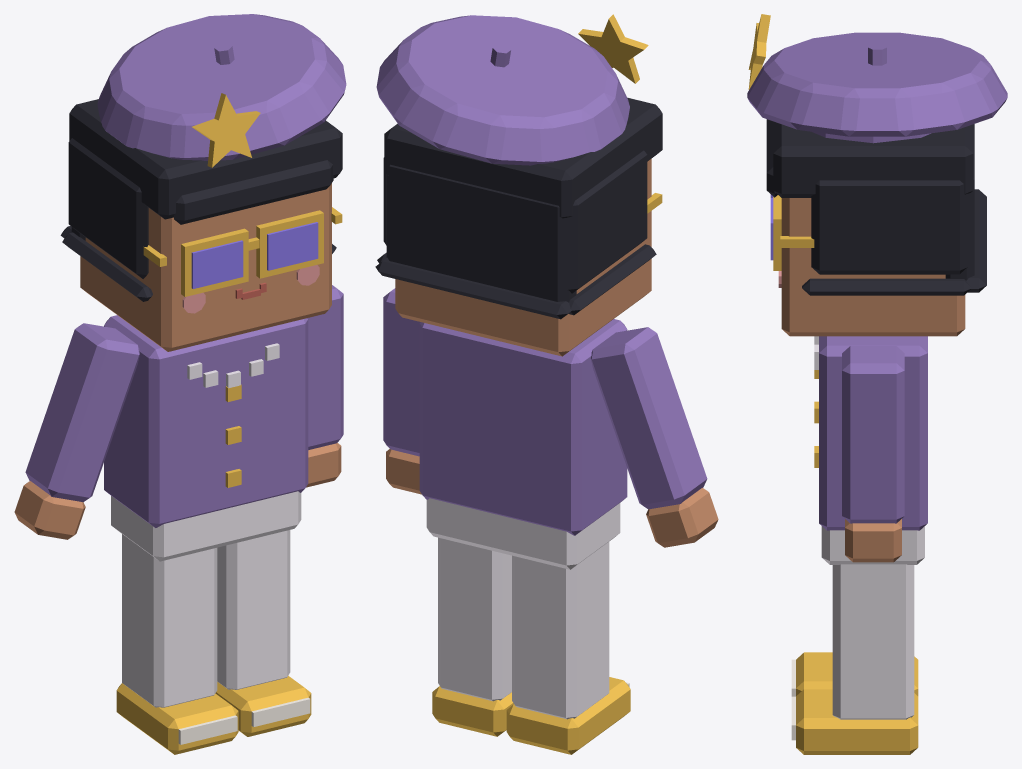
Rendered from CleanACat_NPC_Customer_Vivi.fbx.
3 renders of one model, left to right at view 1: azimuth 30°, elevation 25°; view 2: azimuth 150°, elevation 25°; view 3: azimuth 270°, elevation 25°, orthographic. The views are drawn at different scales.
Parts seen in each view (by area): view 1: CleanACat_NPC_Customer_Vivi_Head, CleanACat_NPC_Customer_Vivi_Body, CleanACat_NPC_Customer_Vivi_LegR, CleanACat_NPC_Customer_Vivi_ArmR, CleanACat_NPC_Customer_Vivi_LegL, CleanACat_NPC_Customer_Vivi_ArmL; view 2: CleanACat_NPC_Customer_Vivi_Head, CleanACat_NPC_Customer_Vivi_Body, CleanACat_NPC_Customer_Vivi_LegR, CleanACat_NPC_Customer_Vivi_ArmR, CleanACat_NPC_Customer_Vivi_LegL, CleanACat_NPC_Customer_Vivi_ArmL; view 3: CleanACat_NPC_Customer_Vivi_Head, CleanACat_NPC_Customer_Vivi_LegL, CleanACat_NPC_Customer_Vivi_ArmL, CleanACat_NPC_Customer_Vivi_Body, CleanACat_NPC_Customer_Vivi_LegR.
Boxes of the visible parts, <box> form: CleanACat_NPC_Customer_Vivi_Head: <box>60,14,346,351</box>; CleanACat_NPC_Customer_Vivi_Body: <box>104,315,308,561</box>; CleanACat_NPC_Customer_Vivi_LegR: <box>116,534,238,754</box>; CleanACat_NPC_Customer_Vivi_ArmR: <box>14,323,139,539</box>; CleanACat_NPC_Customer_Vivi_LegL: <box>215,530,311,736</box>; CleanACat_NPC_Customer_Vivi_ArmL: <box>306,285,343,487</box>; CleanACat_NPC_Customer_Vivi_Head: <box>375,14,662,356</box>; CleanACat_NPC_Customer_Vivi_Body: <box>419,319,627,569</box>; CleanACat_NPC_Customer_Vivi_LegR: <box>506,542,630,754</box>; CleanACat_NPC_Customer_Vivi_ArmR: <box>591,327,718,547</box>; CleanACat_NPC_Customer_Vivi_LegL: <box>432,537,513,736</box>; CleanACat_NPC_Customer_Vivi_ArmL: <box>383,288,421,494</box>; CleanACat_NPC_Customer_Vivi_Head: <box>747,14,1007,336</box>; CleanACat_NPC_Customer_Vivi_LegL: <box>791,564,918,754</box>; CleanACat_NPC_Customer_Vivi_ArmL: <box>842,346,904,562</box>; CleanACat_NPC_Customer_Vivi_Body: <box>814,336,927,564</box>; CleanACat_NPC_Customer_Vivi_LegR: <box>791,652,918,696</box>.
Size of the model in its own units: 2.71 by 5.6 by 1.91.
1 material, 1 textured.
